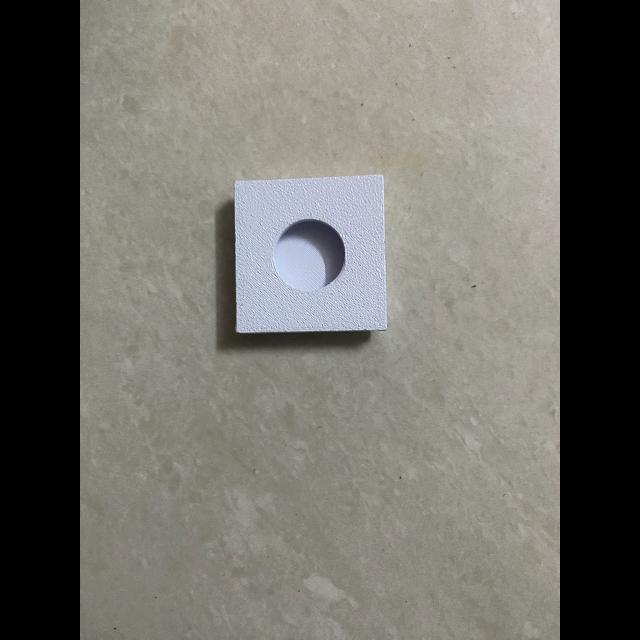RASPBERY PI CAM ENCLOSURE: (234, 175, 386, 333)
